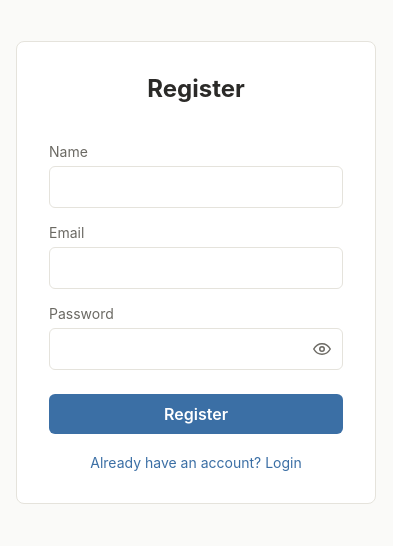
Test: RegisterPage › shows the API's validation messages as they are
Type "Ada Lovelace" into the field labelled "Name" at (196, 186), box [49, 166, 343, 208]
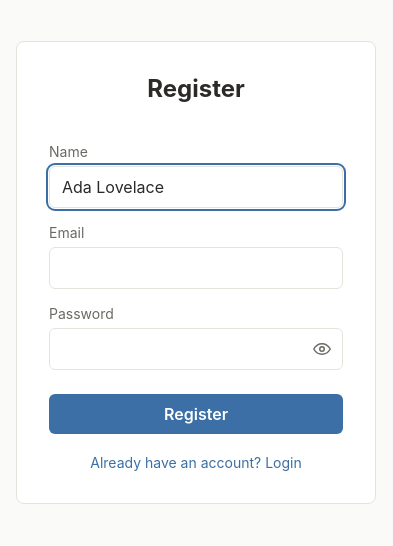
Type "ada@example.com" into the field labelled "Email" at (196, 268), box [49, 246, 343, 288]
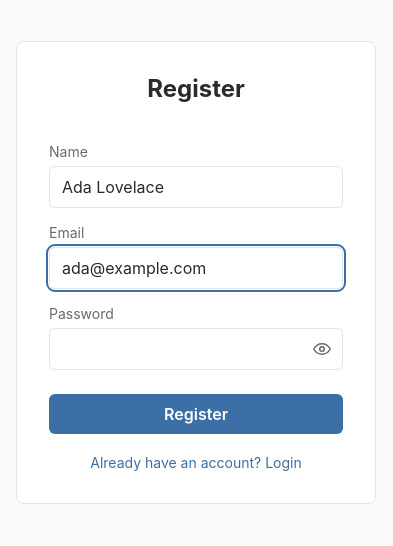
Click the password field labelled "Password" at (196, 348), box [49, 328, 343, 370]
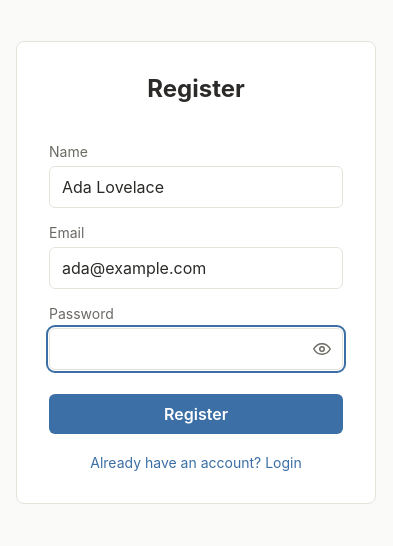
Type keys "testpass123"
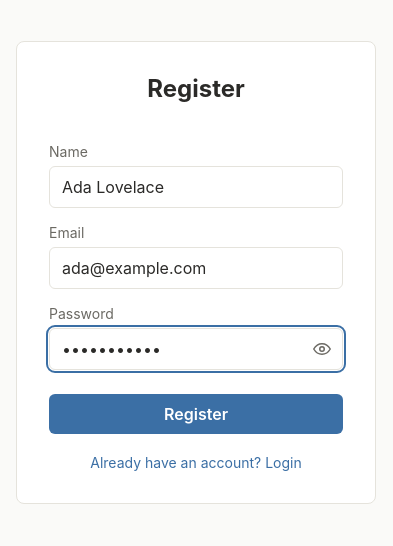
Click the button "Register" at (196, 414), box [49, 394, 343, 434]
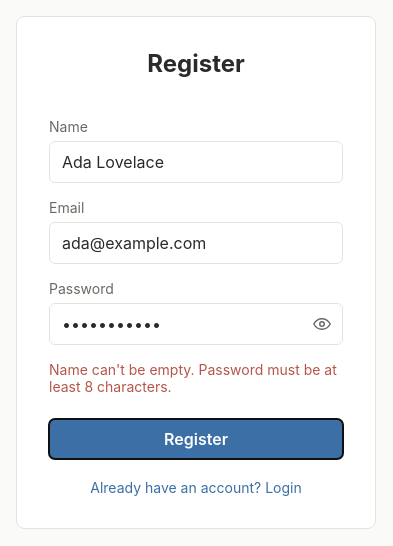
Now the text "Name can't be empty. Password must be at least 8 characters." is shown, box [49, 360, 343, 394]
